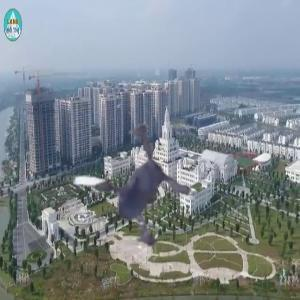drone: (20, 85, 213, 278)
